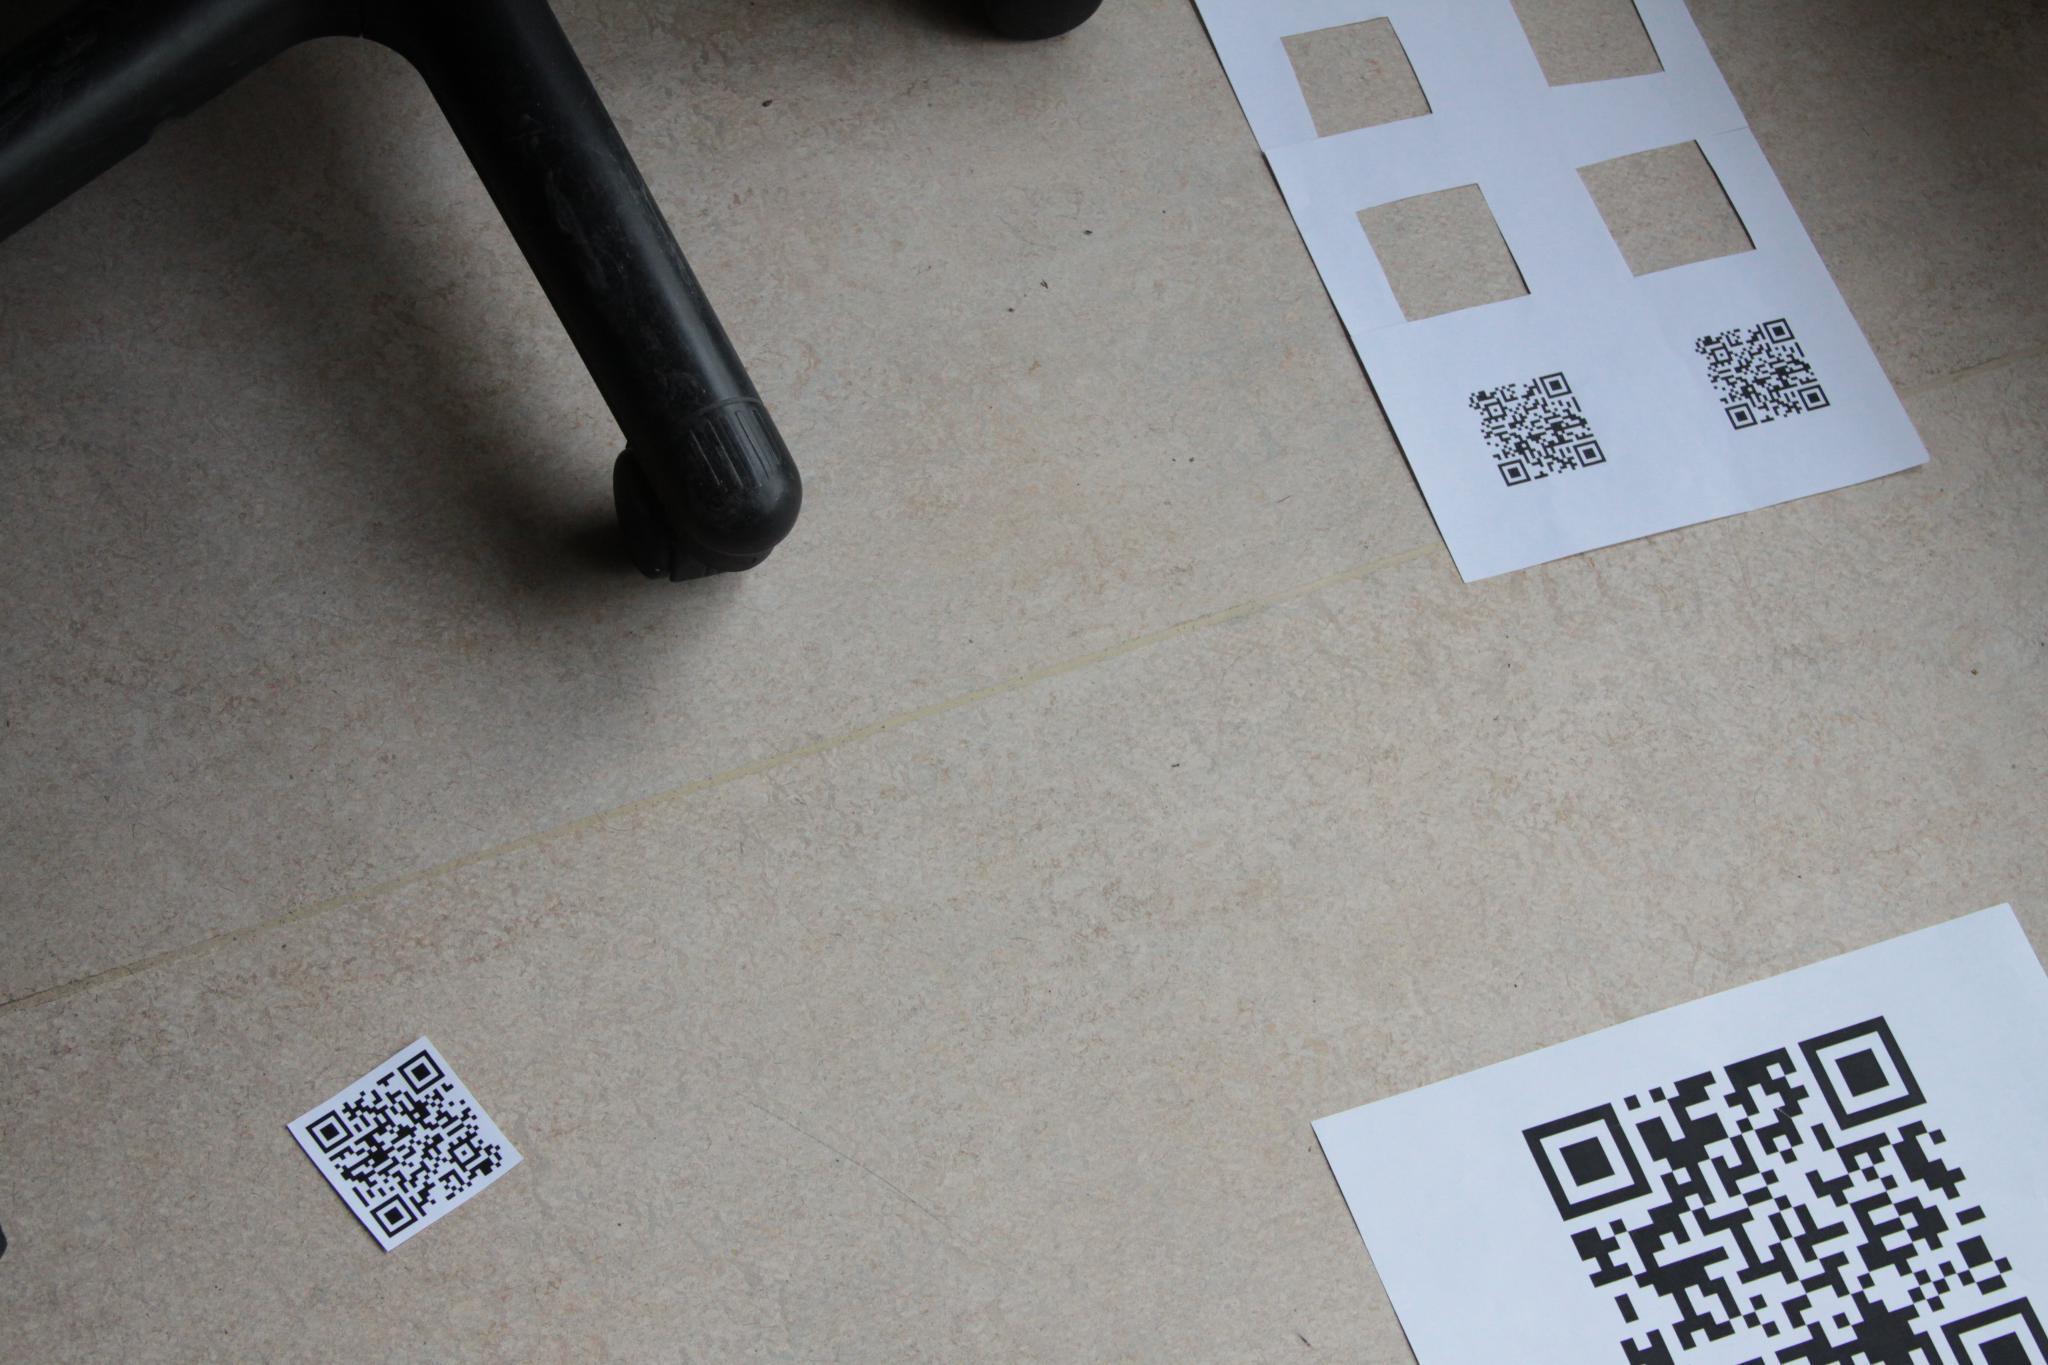Finder pattern: (1792, 1005, 1929, 1133), (1520, 1097, 1654, 1217), (1944, 1287, 2048, 1363), (368, 1194, 419, 1239), (308, 1106, 352, 1155), (402, 1053, 445, 1092), (1494, 454, 1536, 486), (1725, 398, 1760, 433), (1570, 436, 1606, 469), (1762, 308, 1794, 346), (1800, 382, 1830, 414), (1544, 366, 1571, 398)
